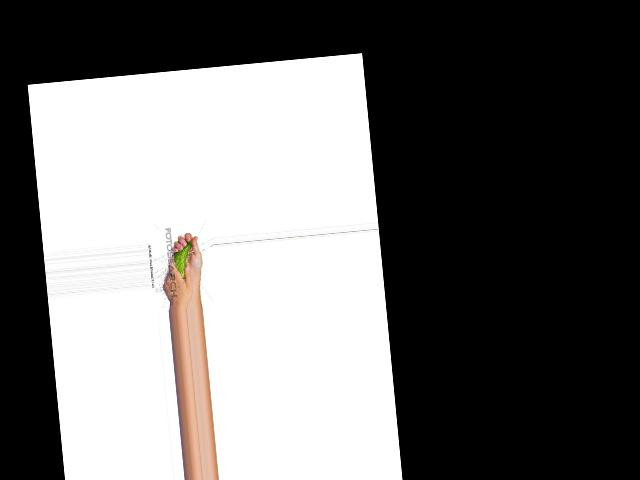cucumber: (171, 239, 195, 281)
